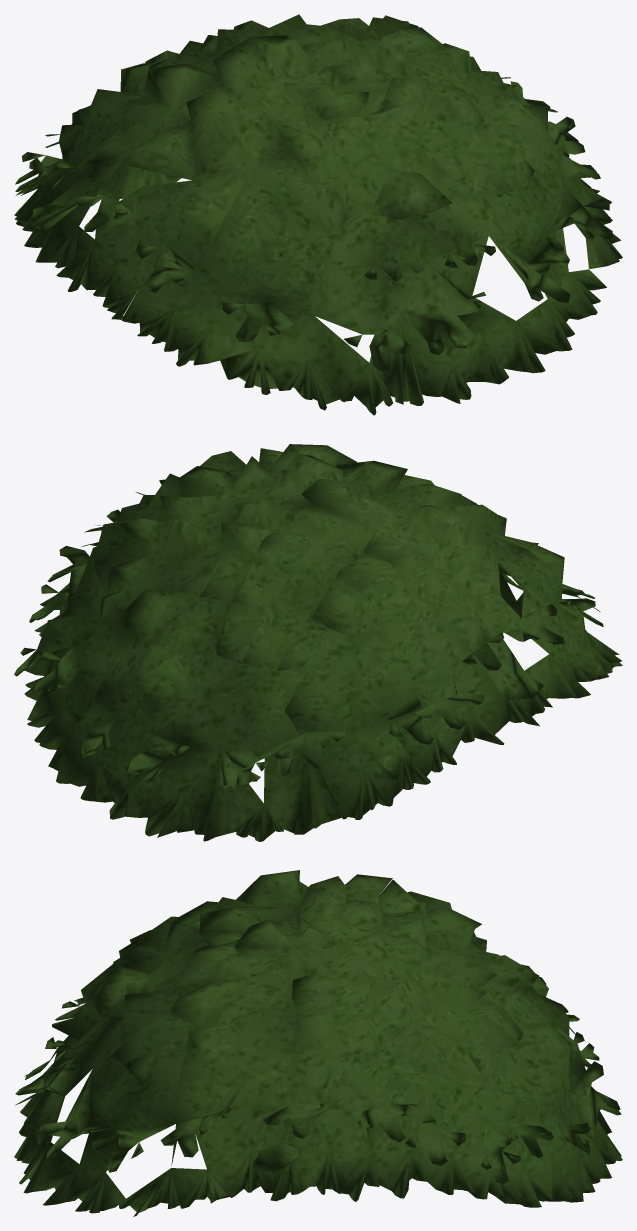
File: bush.glb
3 renders of one model, top to bottom at view 1: azimuth 30°, elevation 25°; view 2: azimuth 150°, elevation 25°; view 3: azimuth 270°, elevation 25°, orthographic.
Visible parts, largest first — view 1: tripo_node_18923409-ef5d-4e2c-a551-b1a0305b8038; view 2: tripo_node_18923409-ef5d-4e2c-a551-b1a0305b8038; view 3: tripo_node_18923409-ef5d-4e2c-a551-b1a0305b8038.
Part boxes in pixels (bbox=[...]): tripo_node_18923409-ef5d-4e2c-a551-b1a0305b8038: bbox=[14, 14, 622, 415]; tripo_node_18923409-ef5d-4e2c-a551-b1a0305b8038: bbox=[14, 444, 622, 841]; tripo_node_18923409-ef5d-4e2c-a551-b1a0305b8038: bbox=[14, 870, 622, 1216].
Bounding box in the file's own units: 0.9589 × 0.459 × 0.998.
1 material, 1 textured.
